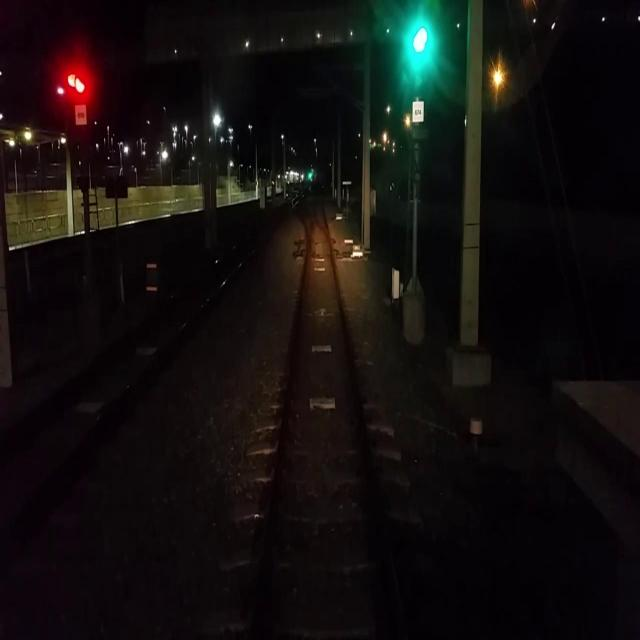rail-track: (0, 201, 291, 522), (266, 192, 392, 575)
